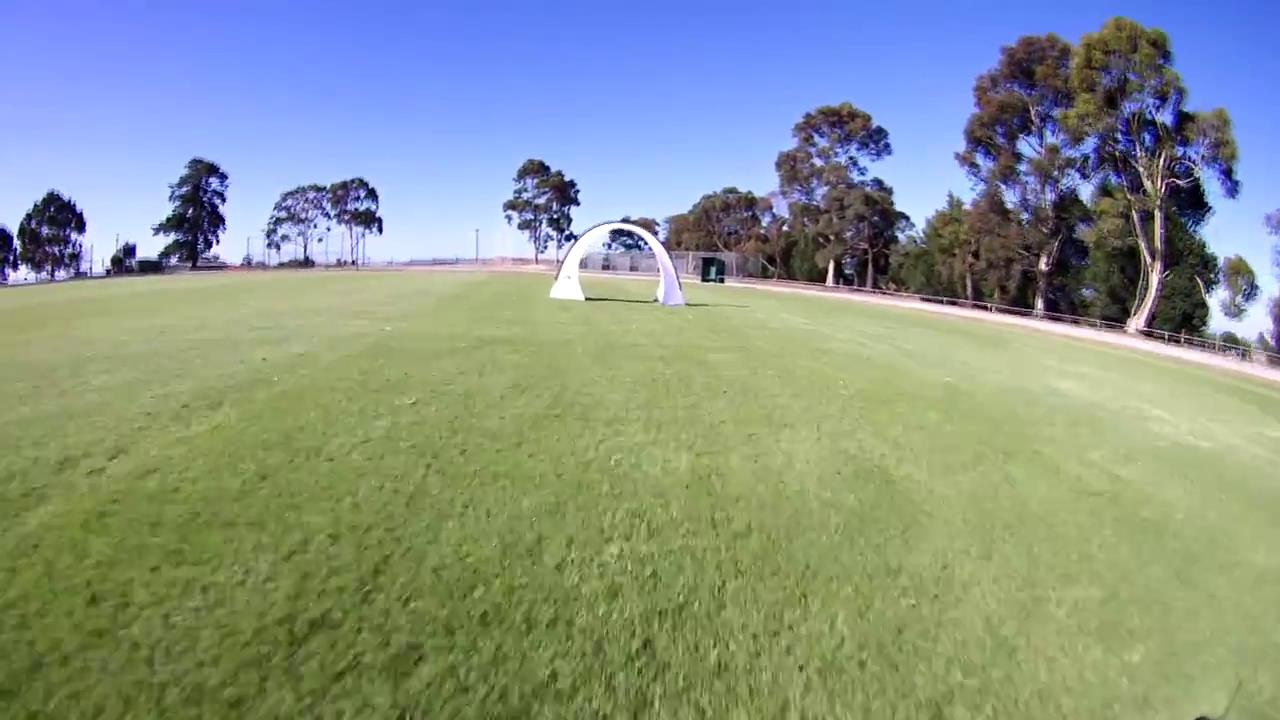gate: (547, 220, 687, 308)
